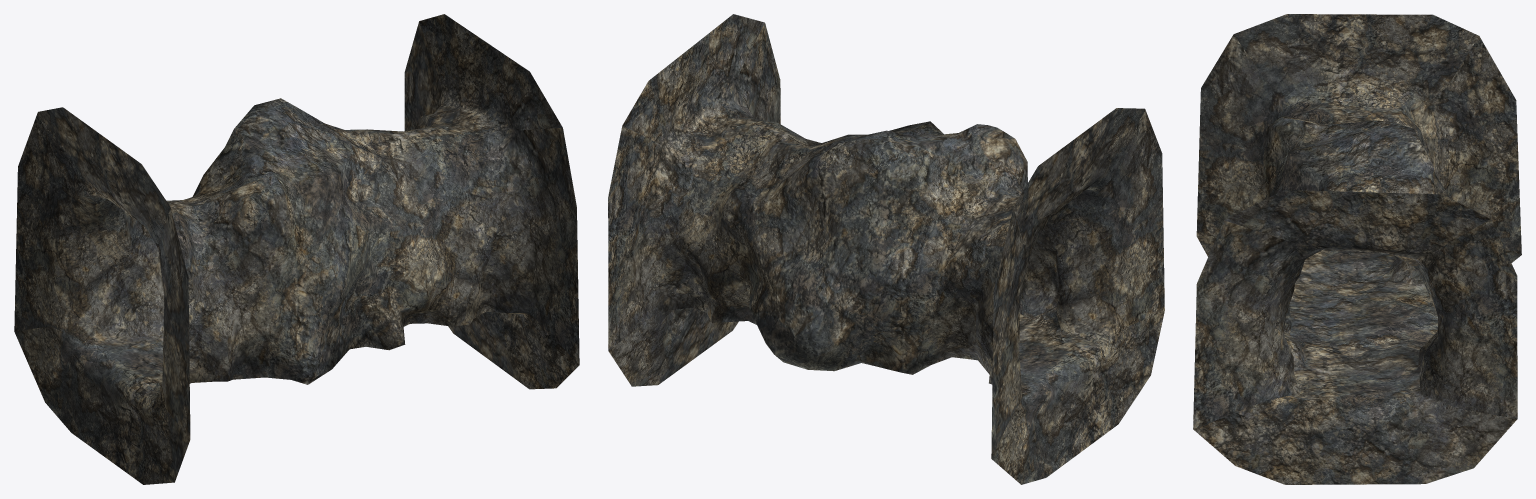
The model's file is Module1.fbx.
3 views of the same model, side by side, from view 1: azimuth 30°, elevation 25°; view 2: azimuth 150°, elevation 25°; view 3: azimuth 270°, elevation 25° (orthographic). The views are drawn at different scales.
Parts seen in each view (by area): view 1: cave_el1_1000_Group35623; view 2: cave_el1_1000_Group35623; view 3: cave_el1_1000_Group35623.
Boxes of the visible parts, x1,y1,x2,y2 form: cave_el1_1000_Group35623: [14, 14, 579, 484]; cave_el1_1000_Group35623: [608, 14, 1164, 484]; cave_el1_1000_Group35623: [1193, 14, 1521, 484].
Bounding box in the file's own units: 10.63 × 8.39 × 8.41.
